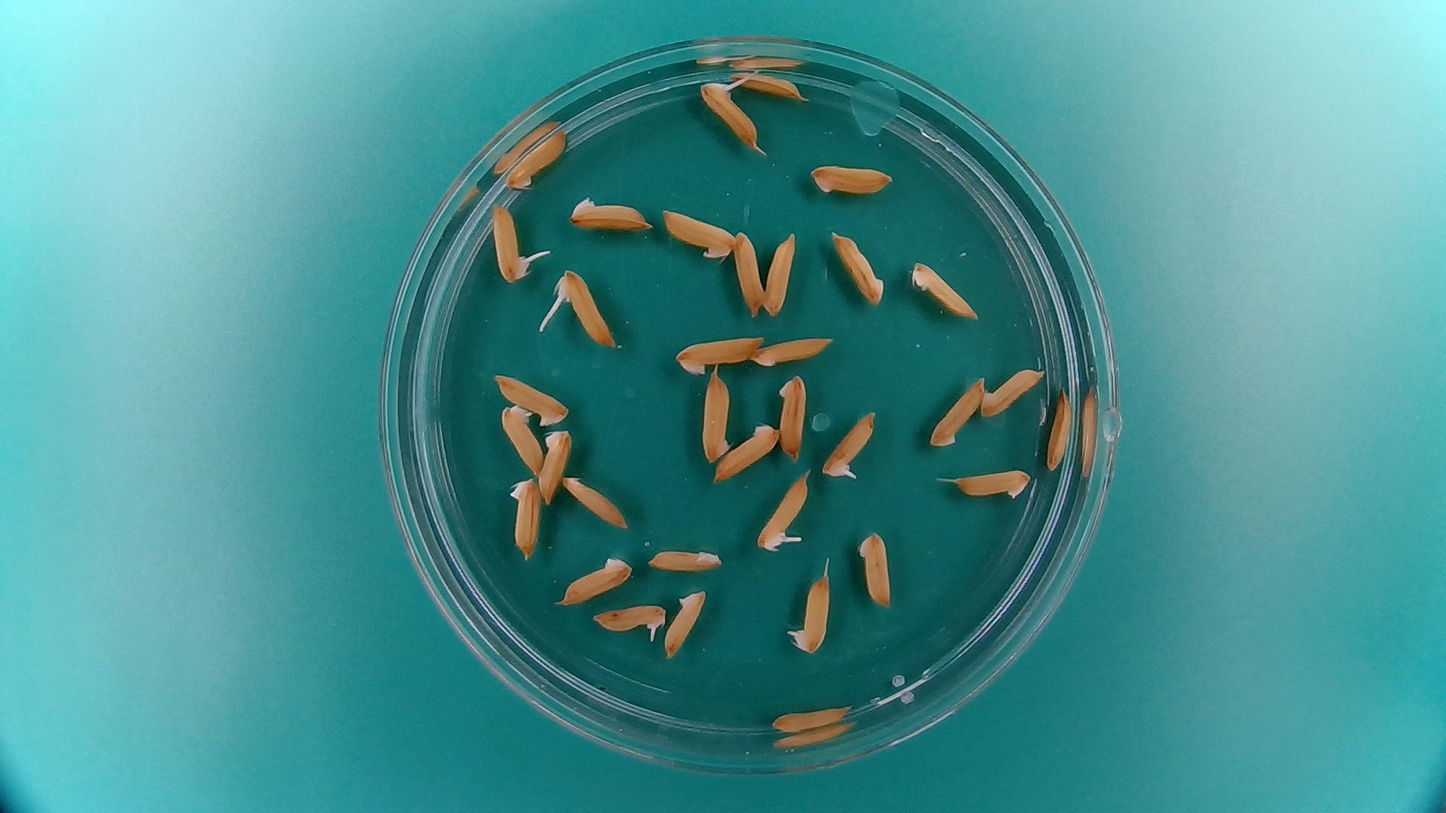no: (826, 226, 890, 308), (907, 257, 984, 321), (926, 371, 987, 449), (503, 123, 572, 191), (711, 420, 782, 484), (493, 372, 569, 430), (657, 206, 737, 261), (557, 473, 631, 532), (672, 335, 766, 377), (565, 190, 654, 234), (557, 556, 633, 607), (980, 363, 1048, 419), (661, 584, 708, 664), (807, 157, 898, 198), (496, 401, 545, 477), (949, 464, 1035, 504), (749, 331, 837, 370), (730, 227, 766, 321), (774, 371, 810, 464), (700, 366, 733, 466), (762, 230, 799, 318), (536, 425, 575, 508), (857, 526, 895, 611), (506, 473, 541, 561), (768, 700, 853, 736), (1042, 385, 1075, 474), (641, 540, 725, 574), (728, 69, 807, 102)
yes: (557, 266, 620, 355), (819, 405, 880, 484), (699, 81, 761, 154), (756, 469, 811, 550), (786, 565, 834, 656), (590, 600, 670, 641), (490, 196, 528, 281)
